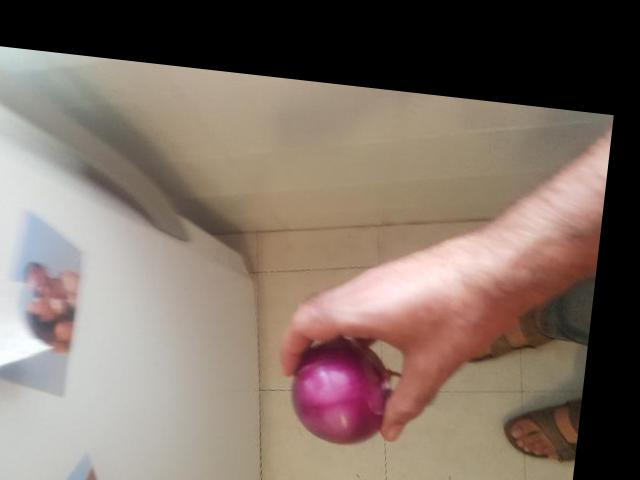onion: (285, 337, 398, 444)
